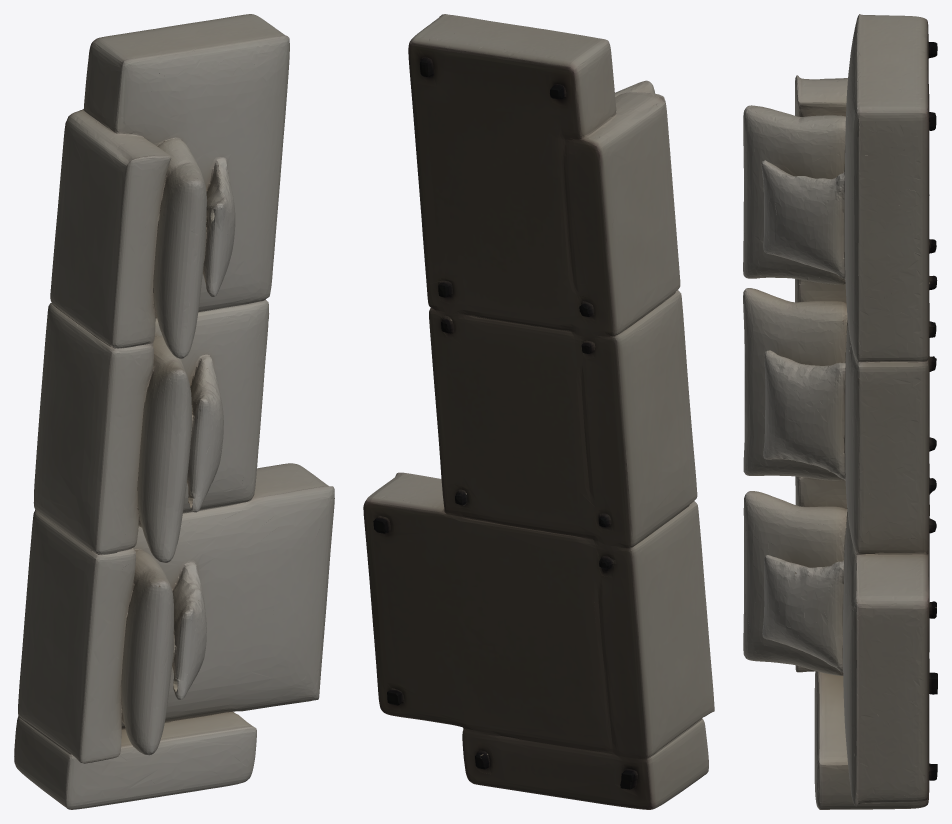
The picture shows the model from 3 angles, left to right: view 1: azimuth 30°, elevation 25°; view 2: azimuth 150°, elevation 25°; view 3: azimuth 270°, elevation 25°; orthographic projection. The views are drawn at different scales.
Bounding box in the file's own units: 1.46 × 3.54 × 0.839.
Materials: 1 (1 with a texture image).
